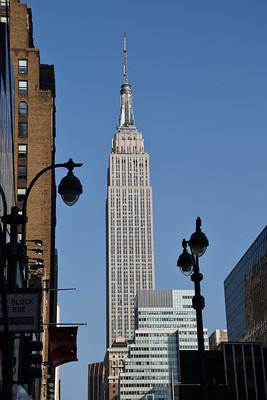building: (100, 83, 164, 393)
